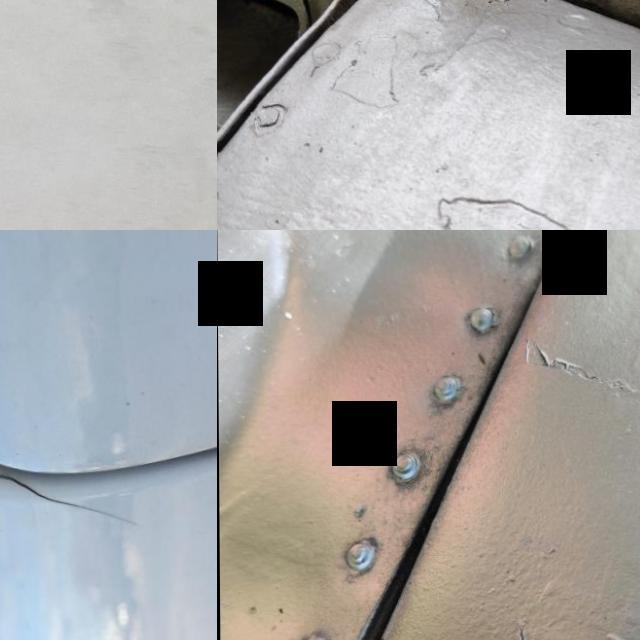Crack: (0, 346, 142, 593), (343, 596, 640, 640), (349, 0, 453, 22)
